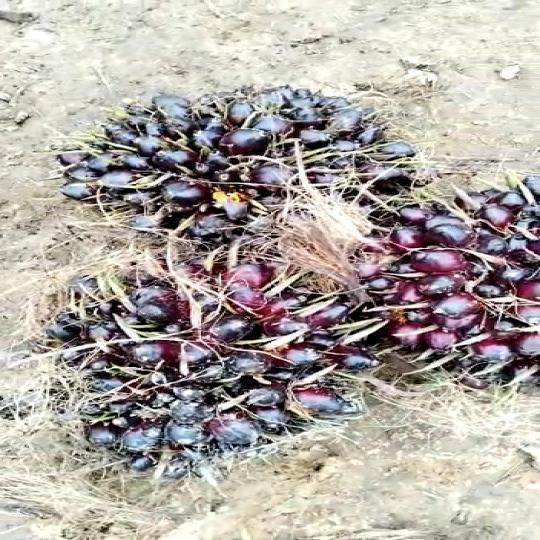mentah: (33, 239, 357, 478), (47, 80, 420, 244), (350, 174, 540, 386)
